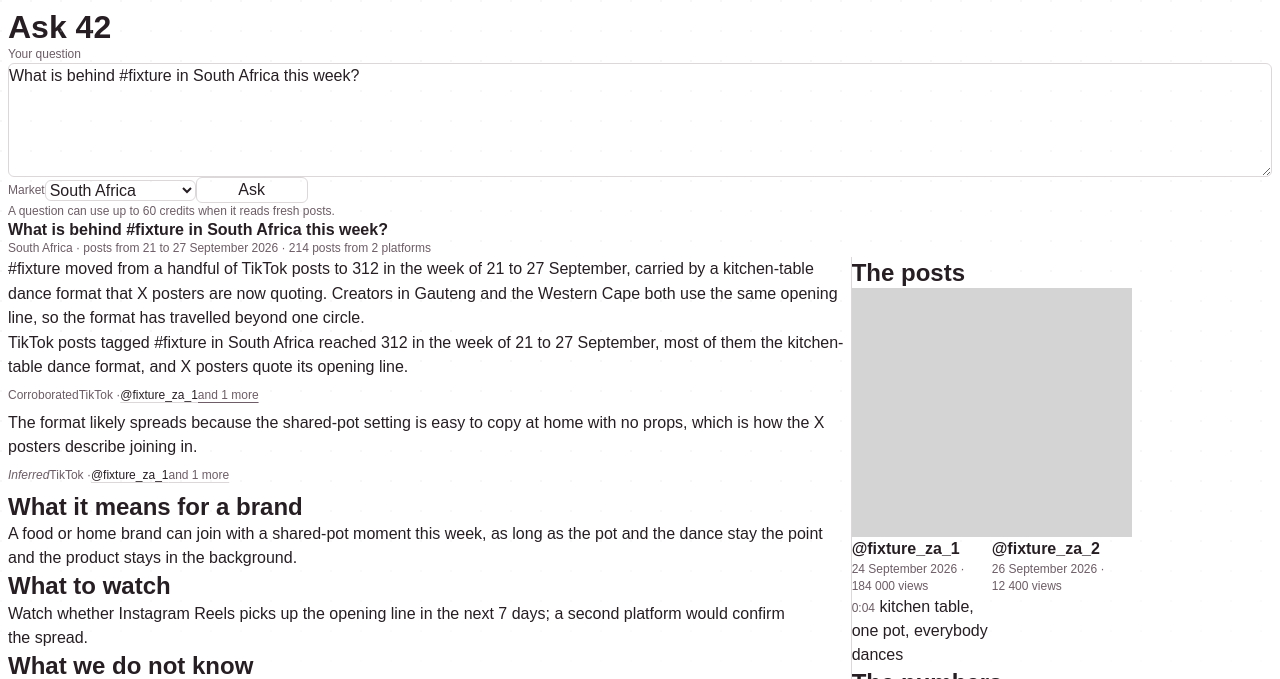
Scenario: a source disclosure keeps keyboard focus while expanding and collapsing
Click the button with class "ask42-chip-more" in the row of "Corroborated". click: [228, 395]
box: [198,379,259,411]
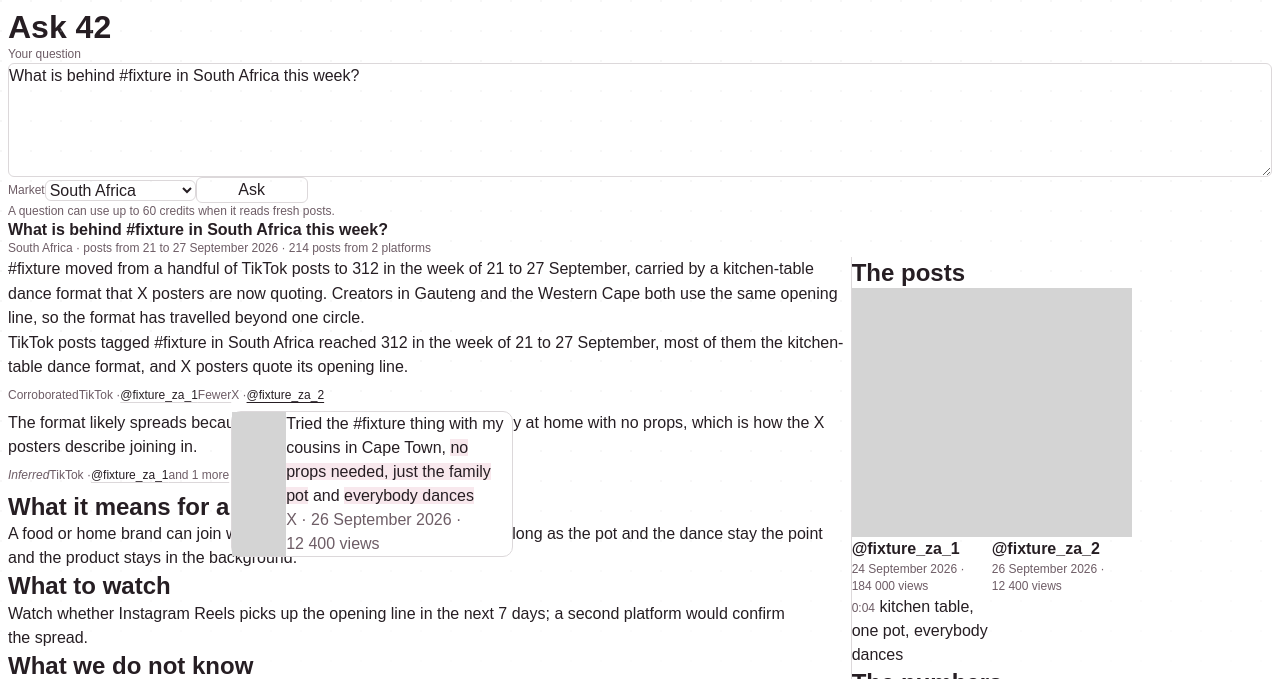
Check: the button with class "ask42-chip-more" is expanded, box [198,379,231,411]
Check: the button with class "ask42-chip-more" reads "Fewer", box [198,379,231,411]
Click the button "X @fixture_za_2". click: [278, 395]
box: [231,379,324,411]
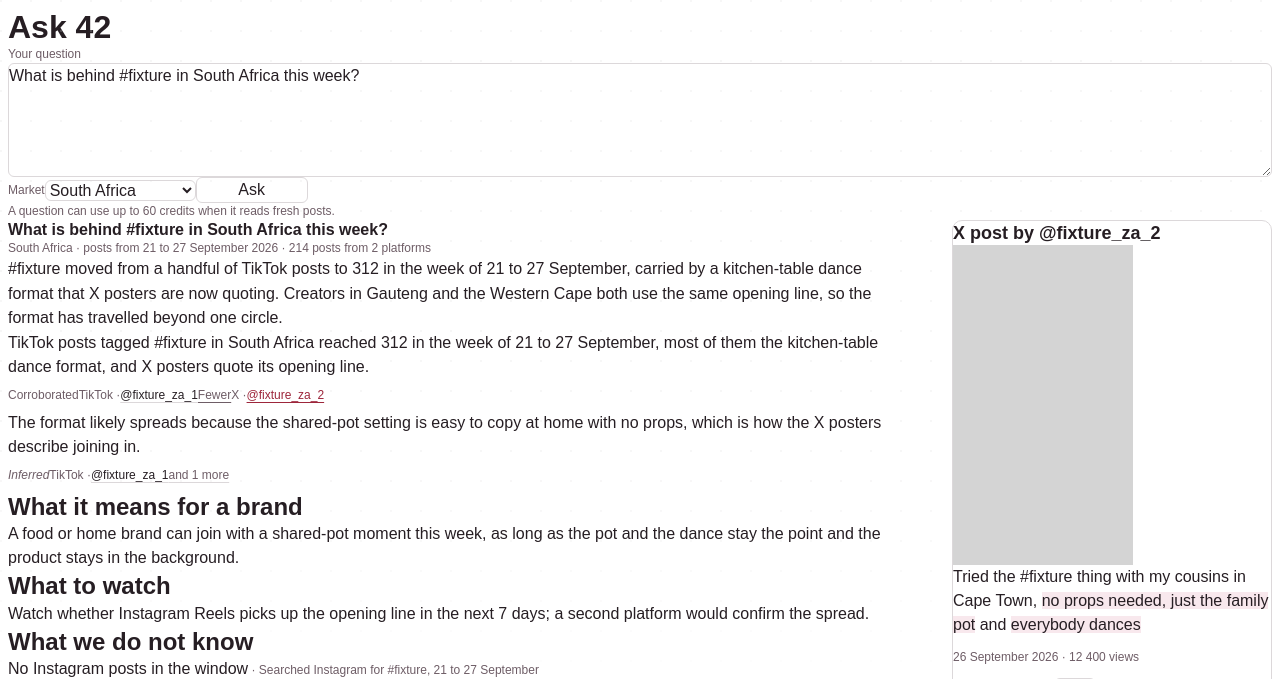
Check: the element named "Source" shows "@fixture_za_2", box [953,223,1161,243]
Click the button with class "ask42-chip-more" showing "Fewer". click: [215, 395]
box: [198,379,231,411]
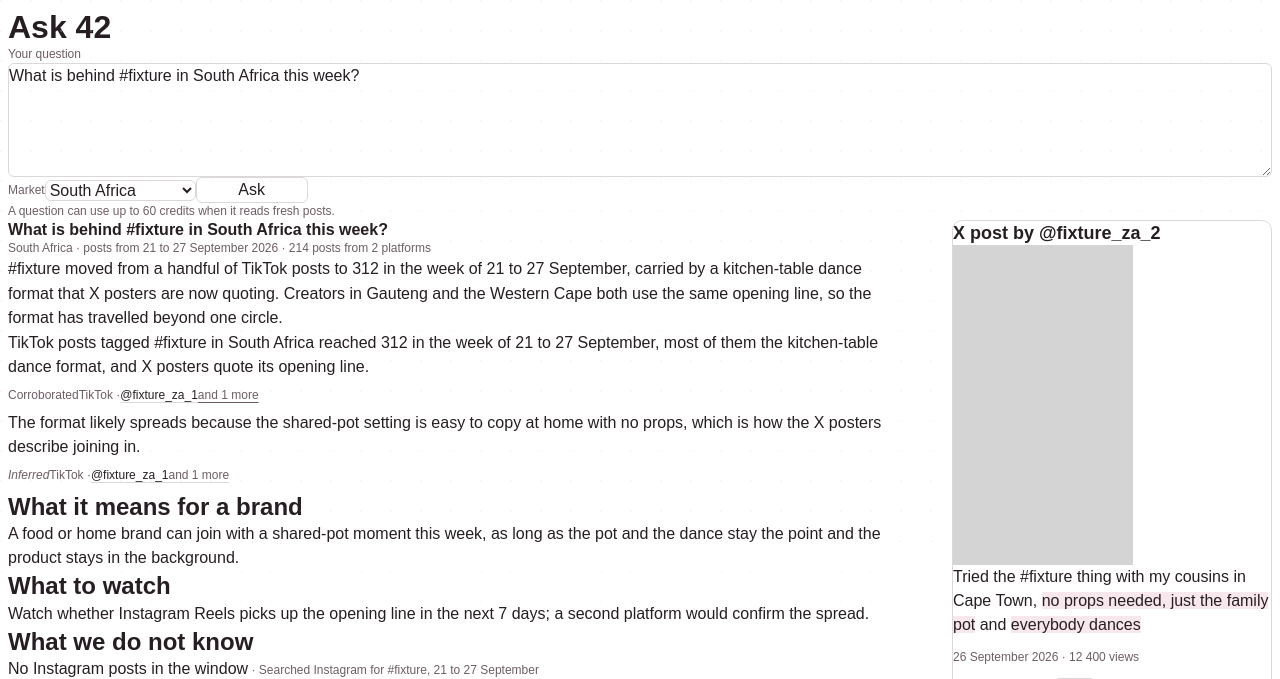
Check: the element named "Source" shows "@fixture_za_2", box [953,223,1161,243]
Check: the button with class "ask42-chip-more" in the row of "Corroborated" is collapsed, box [198,379,259,411]
Check: the button with class "ask42-chip-more" in the row of "Corroborated" reads "and 1 more", box [198,379,259,411]
